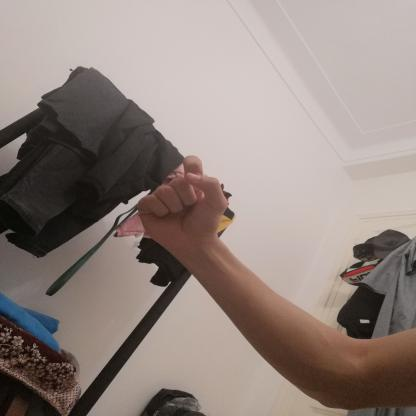FAA: (122, 148, 241, 264)
